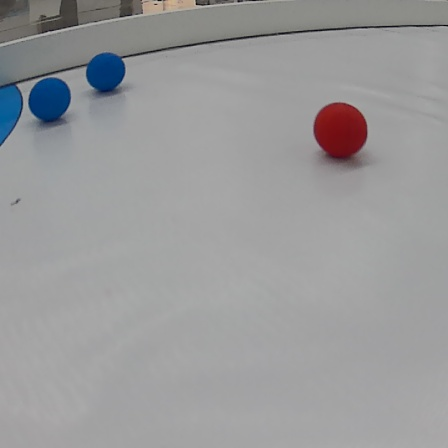blue: (0, 71, 25, 151), (29, 76, 69, 123), (89, 51, 134, 92)
red: (312, 101, 369, 158)
